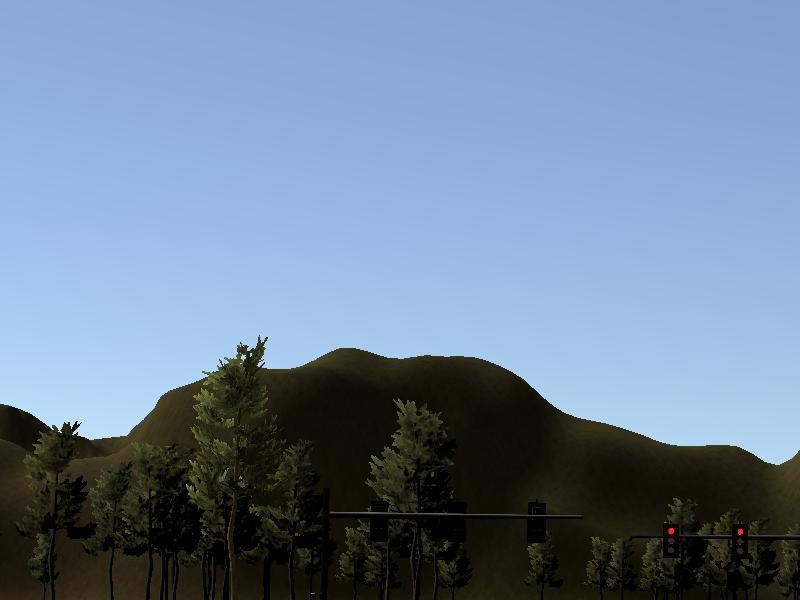traffic_light_red: (644, 523, 790, 561)
